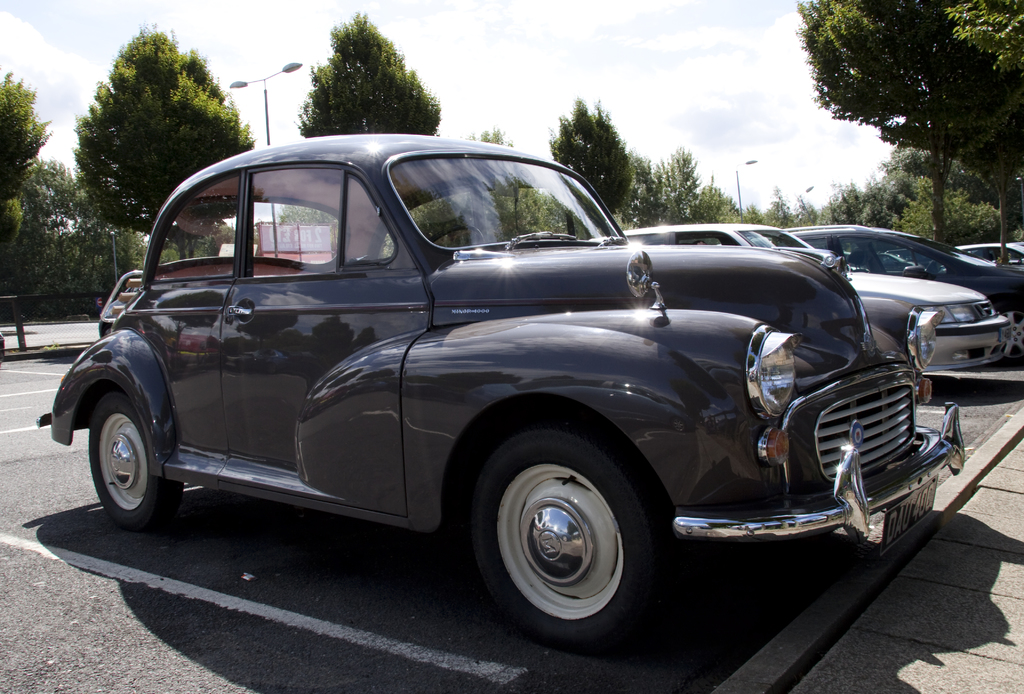Car: (37, 135, 966, 648), (622, 224, 1013, 366), (783, 221, 1024, 367), (955, 244, 1023, 264)
